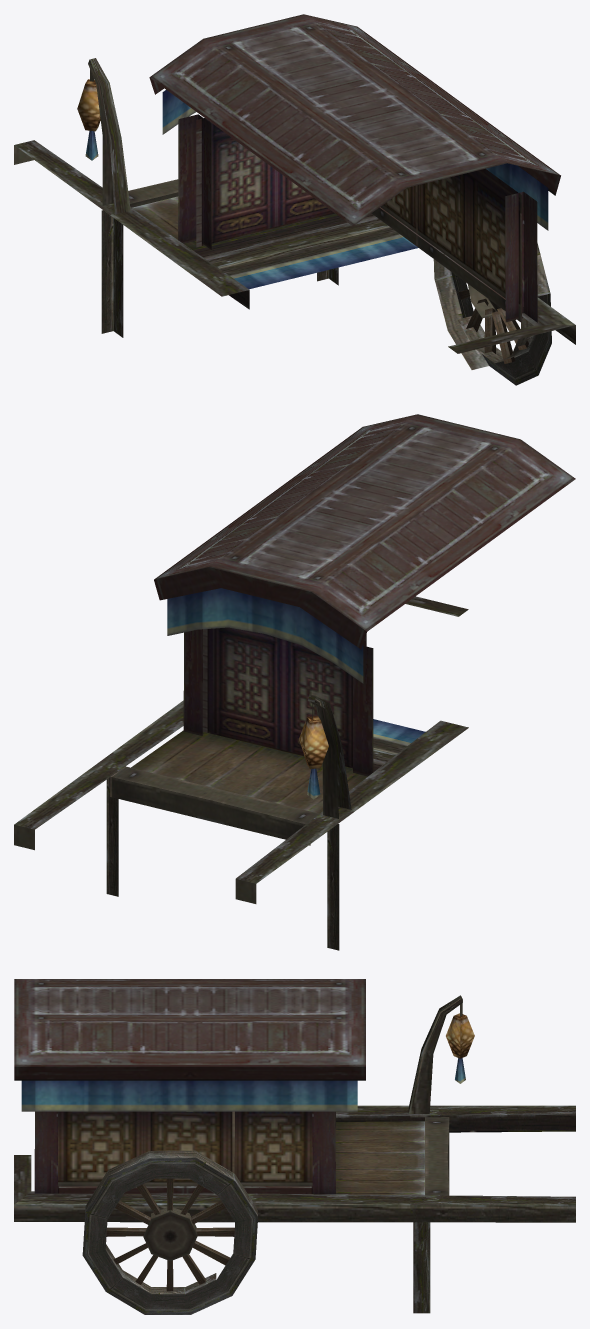
Rendered from zc_suzhou_mache01.FBX.
3 views of the same model, one above another, from view 1: azimuth 30°, elevation 25°; view 2: azimuth 150°, elevation 25°; view 3: azimuth 270°, elevation 25° (orthographic). The views are drawn at different scales.
Visible parts, largest first — view 1: zc_suzhou_mache01; view 2: zc_suzhou_mache01; view 3: zc_suzhou_mache01.
Part boxes in pixels (x1,y1,x2,y2): zc_suzhou_mache01: (14,14,575,385); zc_suzhou_mache01: (14,414,575,950); zc_suzhou_mache01: (14,979,575,1314).
Size of the model in its own units: 201 by 230 by 443.
